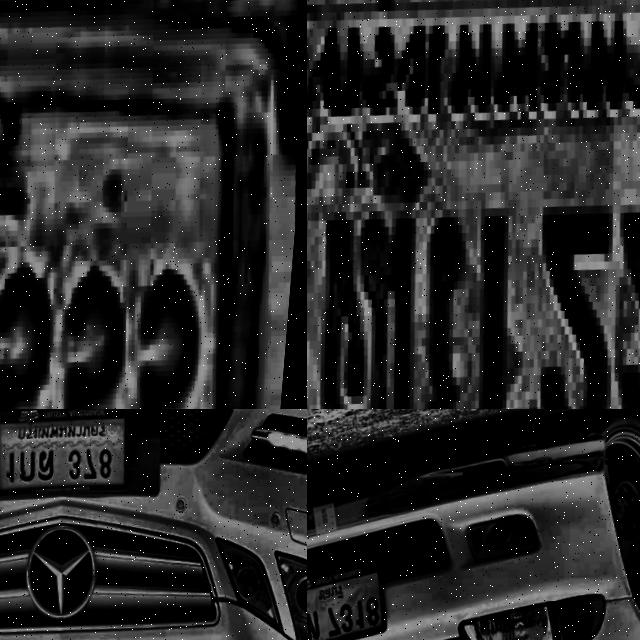license-plate: (307, 0, 640, 409), (0, 0, 307, 409), (0, 409, 140, 503), (307, 555, 399, 640)
